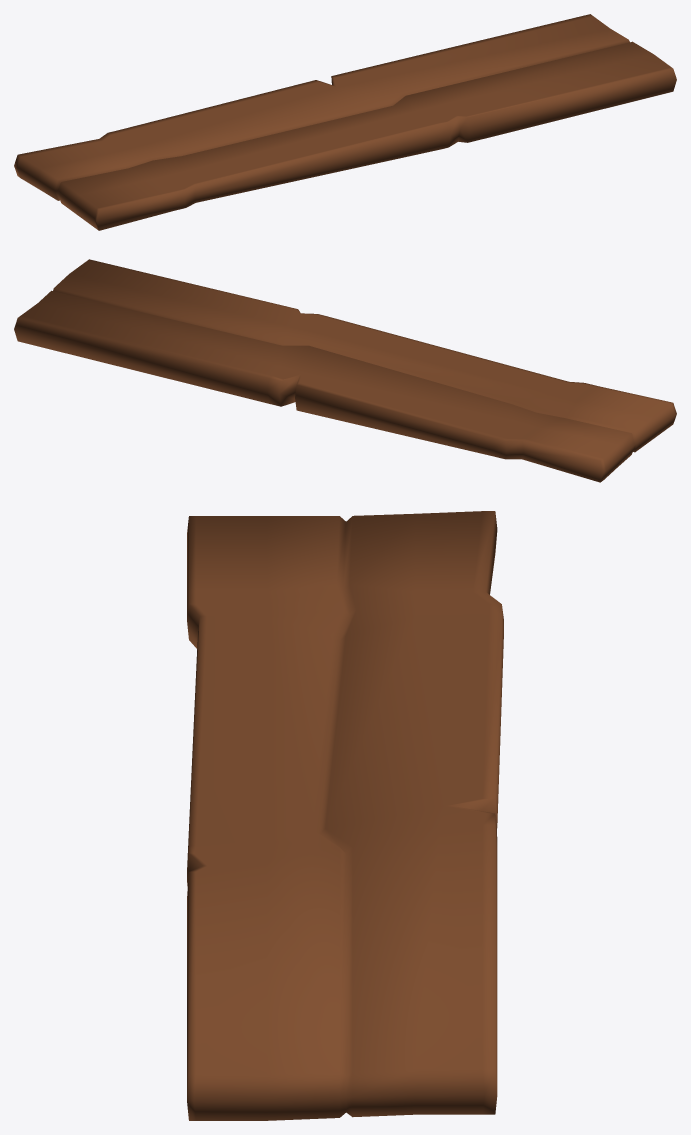
Rendered from Plank_A.fbx.
The picture shows the model from 3 angles, top to bottom: view 1: azimuth 30°, elevation 25°; view 2: azimuth 150°, elevation 25°; view 3: azimuth 270°, elevation 25°; orthographic projection. The views are drawn at different scales.
Parts seen in each view (by area): view 1: Plank_A; view 2: Plank_A; view 3: Plank_A.
Boxes of the visible parts, box(x1,y1,x2,y2) form: Plank_A: box(14, 14, 676, 230); Plank_A: box(14, 259, 676, 482); Plank_A: box(187, 511, 503, 1120).
Size of the model in its own units: 235 by 55.19 by 9.91.
